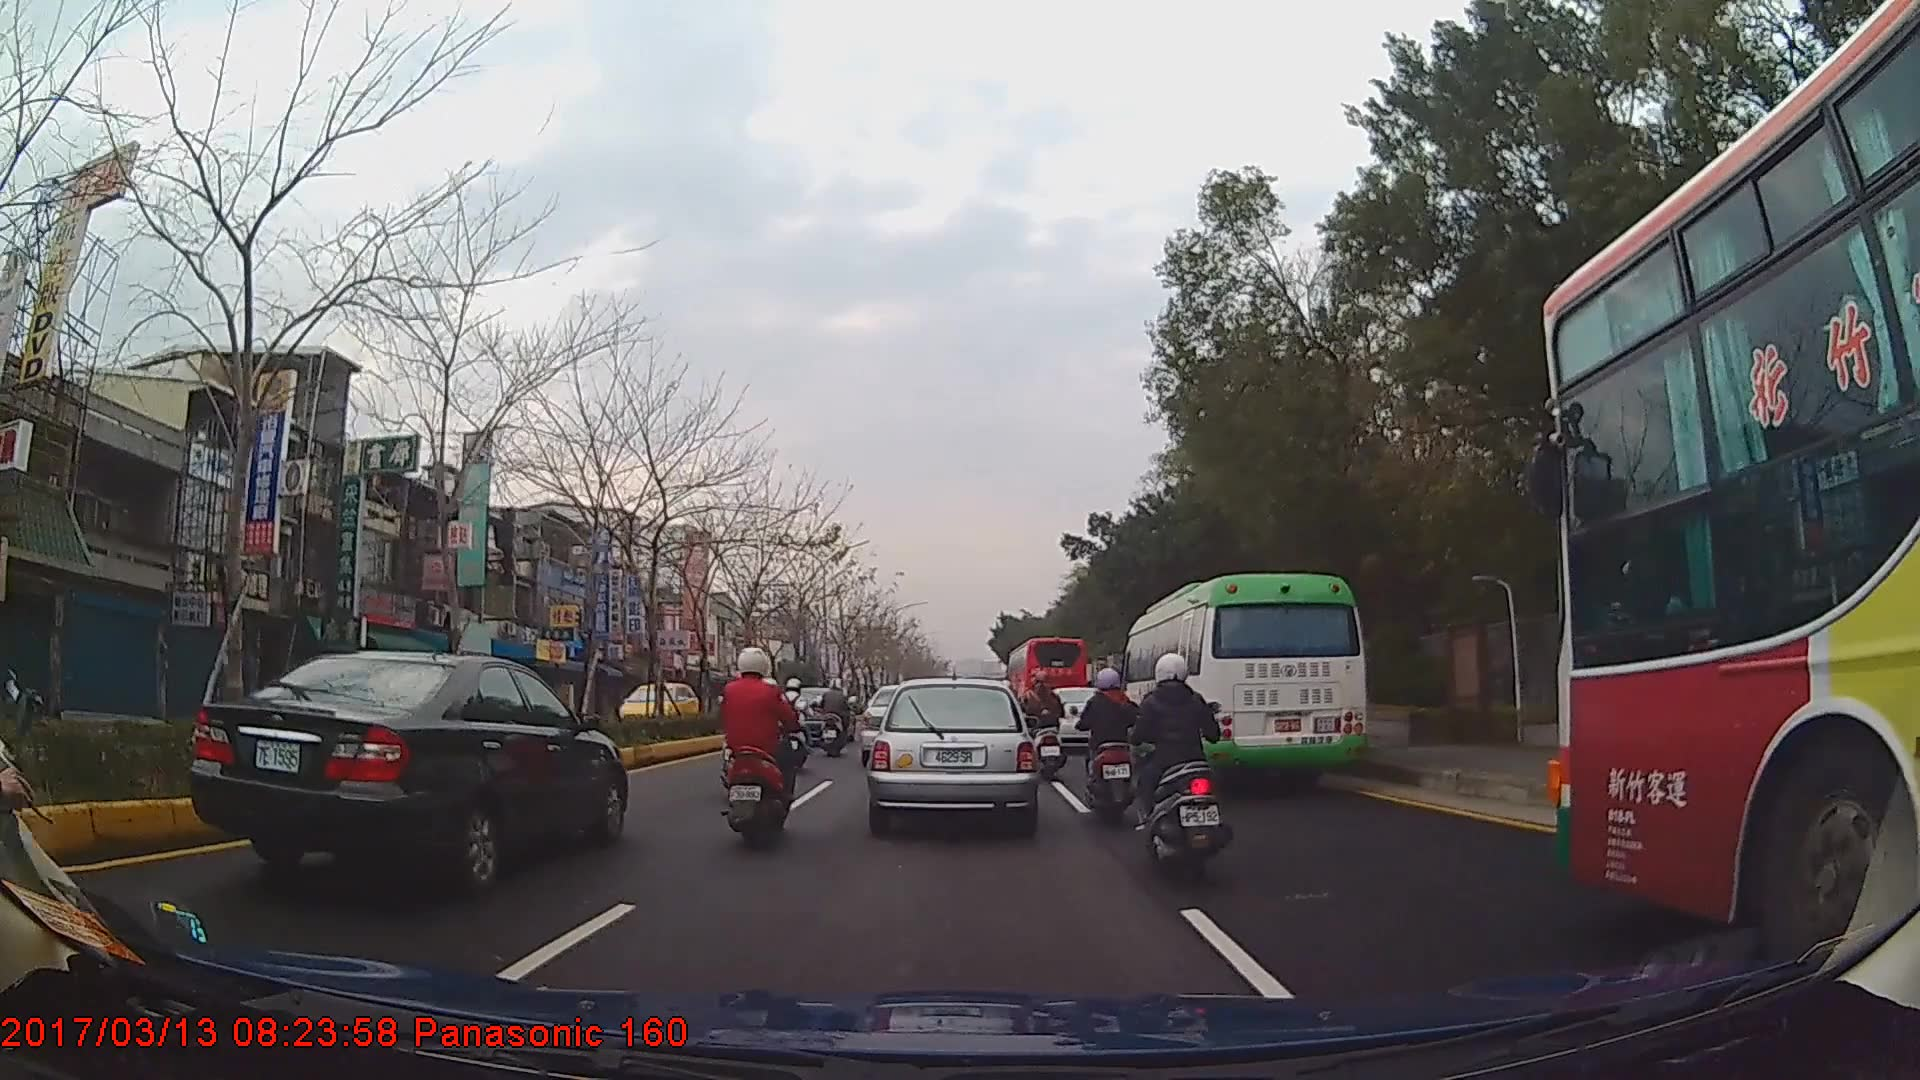rider: (1136, 650, 1234, 891), (712, 644, 793, 852), (1074, 665, 1144, 825), (1026, 670, 1069, 784), (777, 676, 817, 778), (821, 677, 860, 757)
vehicle: (1547, 0, 1919, 998), (189, 649, 629, 888), (1123, 574, 1371, 790), (867, 675, 1036, 832), (1007, 634, 1090, 729)
